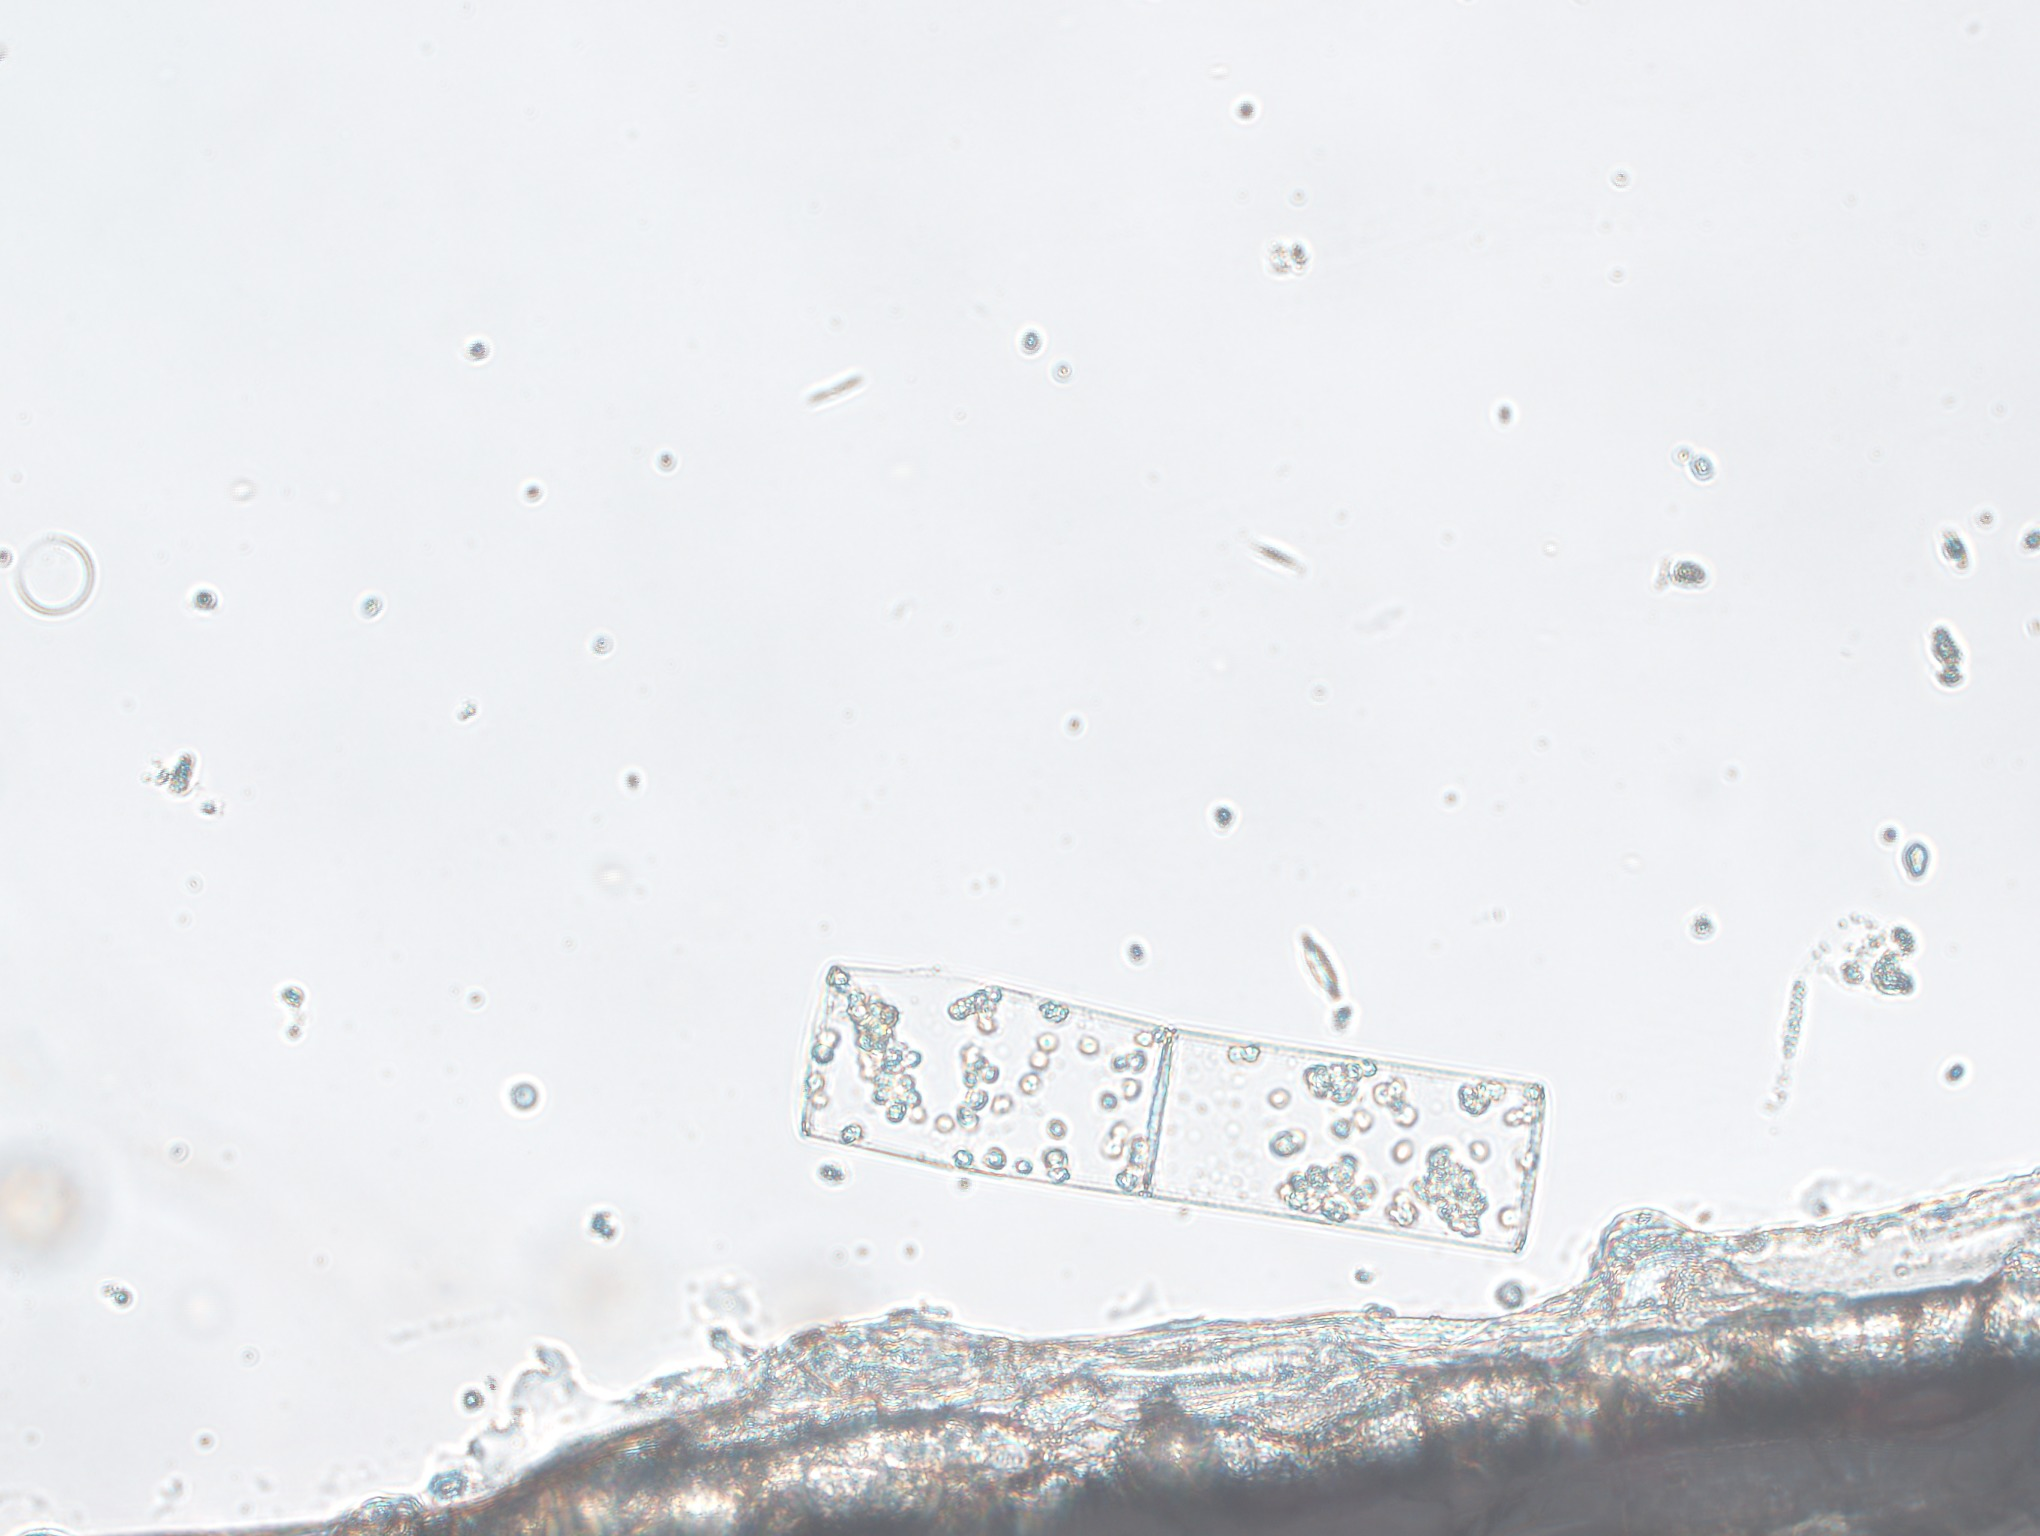guinardia flaccida: (784, 936, 1551, 1276)
